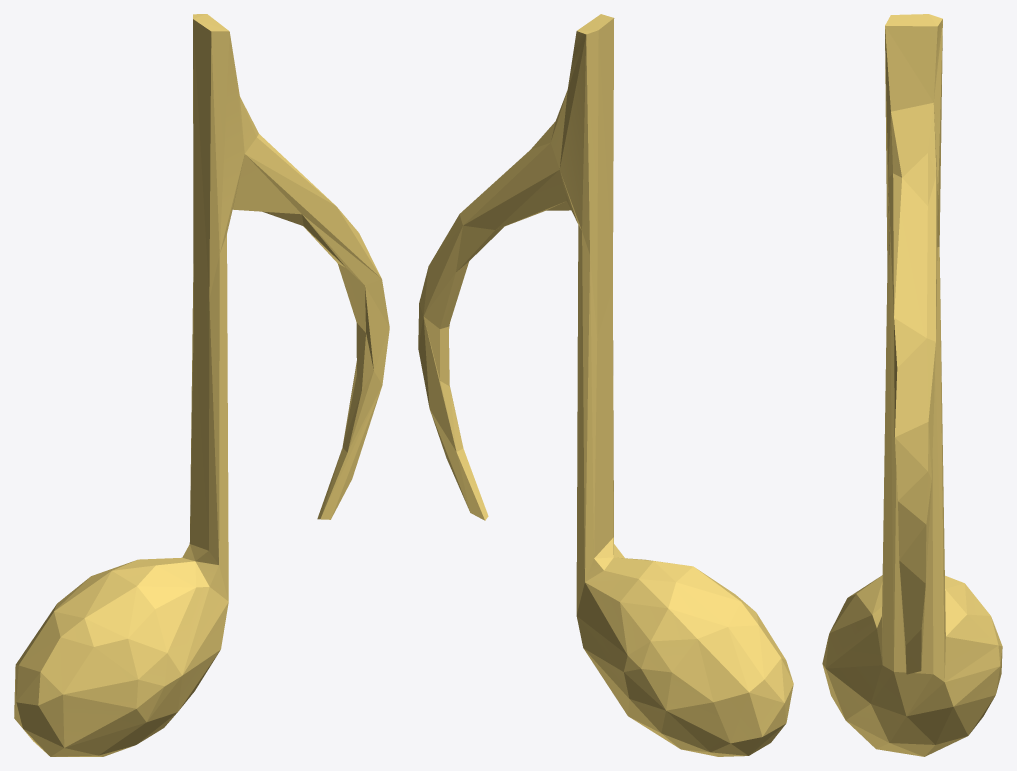
Rendered from note.glb.
3 views of the same model, side by side, from view 1: azimuth 30°, elevation 25°; view 2: azimuth 150°, elevation 25°; view 3: azimuth 270°, elevation 25° (orthographic). The views are drawn at different scales.
Parts seen in each view (by area): view 1: note_quaver; view 2: note_quaver; view 3: note_quaver.
Part boxes in pixels (bbox=[...]): note_quaver: bbox=[14, 14, 389, 756]; note_quaver: bbox=[418, 14, 793, 756]; note_quaver: bbox=[822, 14, 1002, 756].
Bounding box in the file's own units: 0.5463 × 1 × 0.2076.
